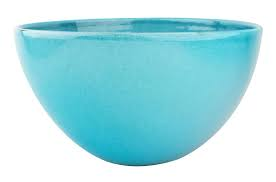bowl: (10, 16, 266, 171)
